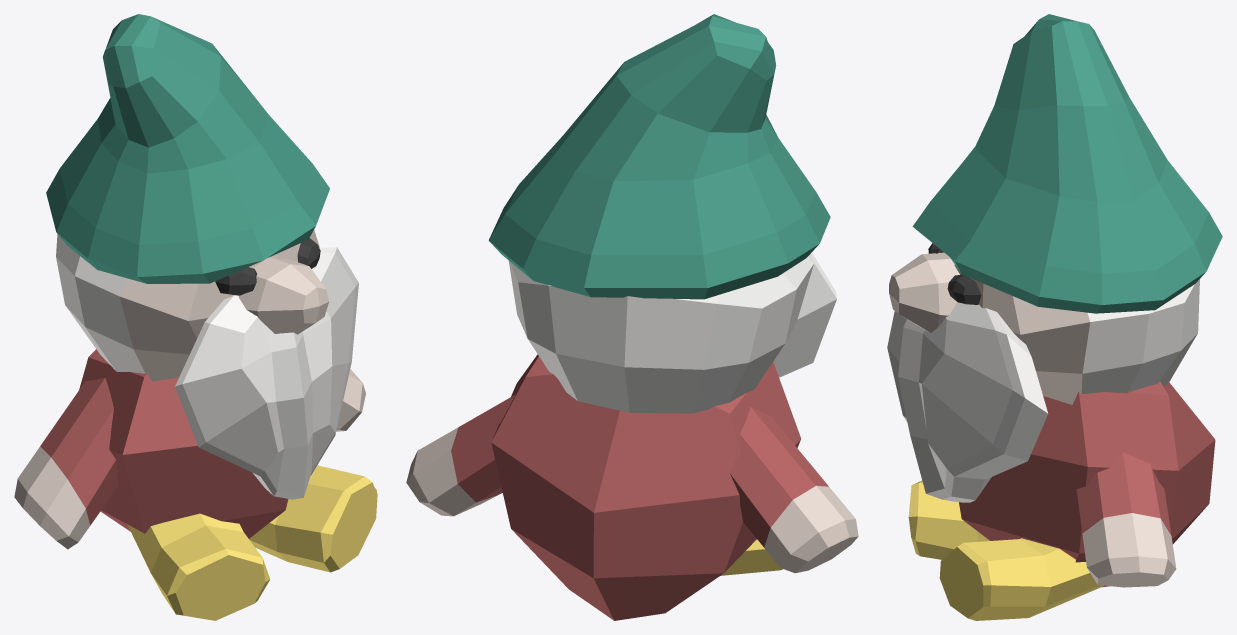
The model's file is Gnome.fbx.
3 views of the same model, side by side, from view 1: azimuth 30°, elevation 25°; view 2: azimuth 150°, elevation 25°; view 3: azimuth 270°, elevation 25° (orthographic). The views are drawn at different scales.
Visible parts, largest first — view 1: Gnome; view 2: Gnome; view 3: Gnome.
Part boxes in pixels (x1,y1,x2,y2): Gnome: [14, 14, 377, 620]; Gnome: [406, 14, 858, 620]; Gnome: [887, 14, 1222, 620].
Size of the model in its own units: 37.21 by 30.1 by 53.15.
